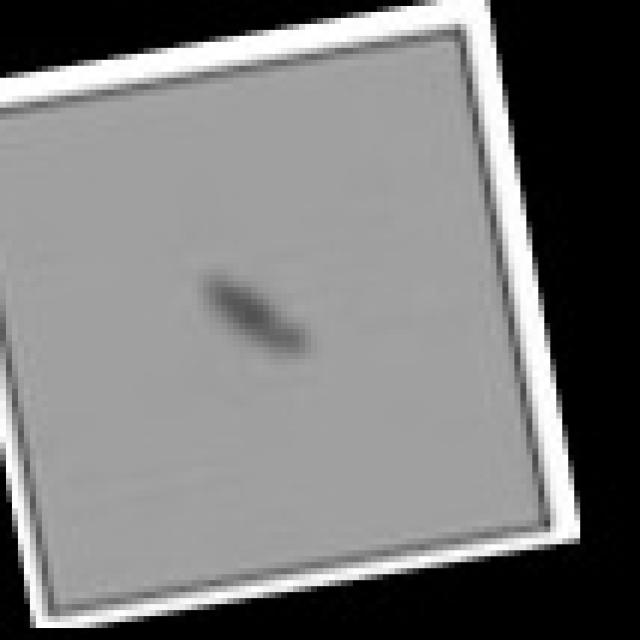Defect5: (181, 243, 369, 393)
